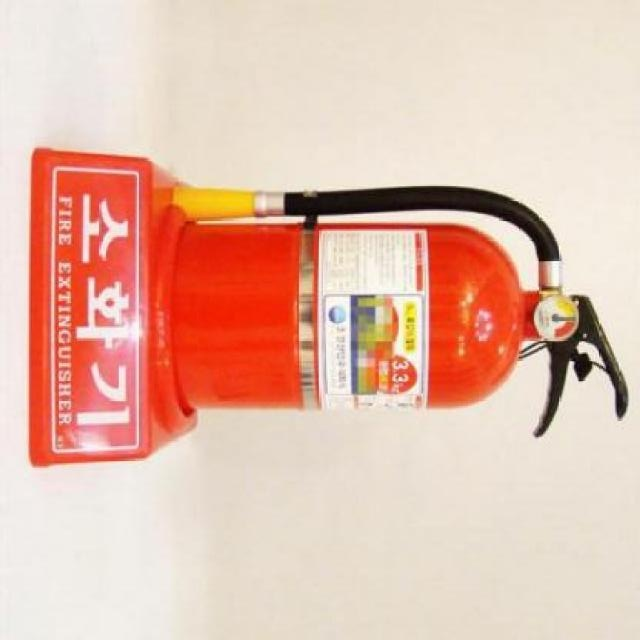fire extinguisher: (171, 185, 631, 438)
